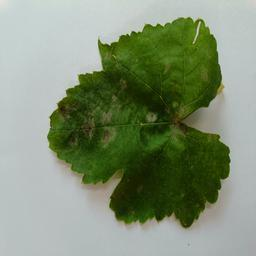Powdery-Mildew: (78, 105, 115, 135), (154, 131, 187, 161), (162, 22, 190, 48), (185, 59, 210, 88), (140, 108, 167, 127), (107, 48, 139, 64), (98, 124, 118, 149), (61, 130, 81, 149), (162, 56, 177, 71)
